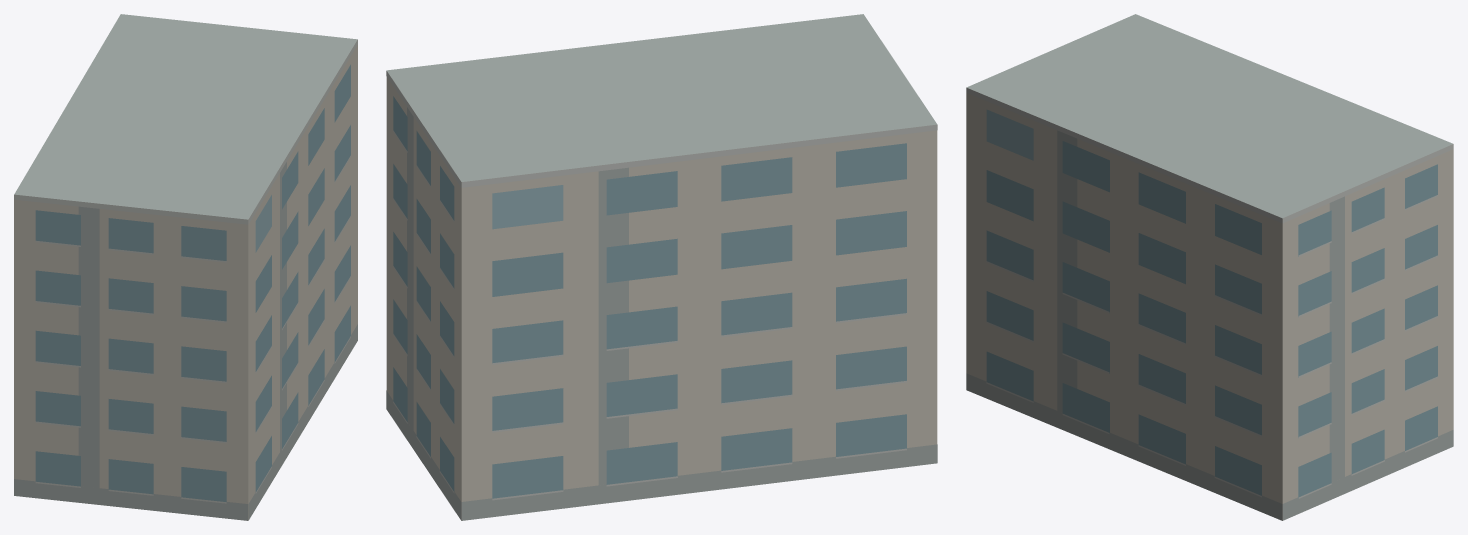
File: survey-upis-32813634.glb
The picture shows the model from 3 angles, left to right: view 1: azimuth 30°, elevation 25°; view 2: azimuth 150°, elevation 25°; view 3: azimuth 270°, elevation 25°; orthographic projection. The views are drawn at different scales.
Parts seen in each view (by area): view 1: survey-upis-32813634.tmp; view 2: survey-upis-32813634.tmp; view 3: survey-upis-32813634.tmp.
Boxes of the visible parts, bbox=[...] form: survey-upis-32813634.tmp: bbox=[14, 14, 357, 520]; survey-upis-32813634.tmp: bbox=[386, 14, 937, 520]; survey-upis-32813634.tmp: bbox=[966, 14, 1453, 520].
Bounding box in the file's own units: 20.72 × 14.3 × 20.88.
